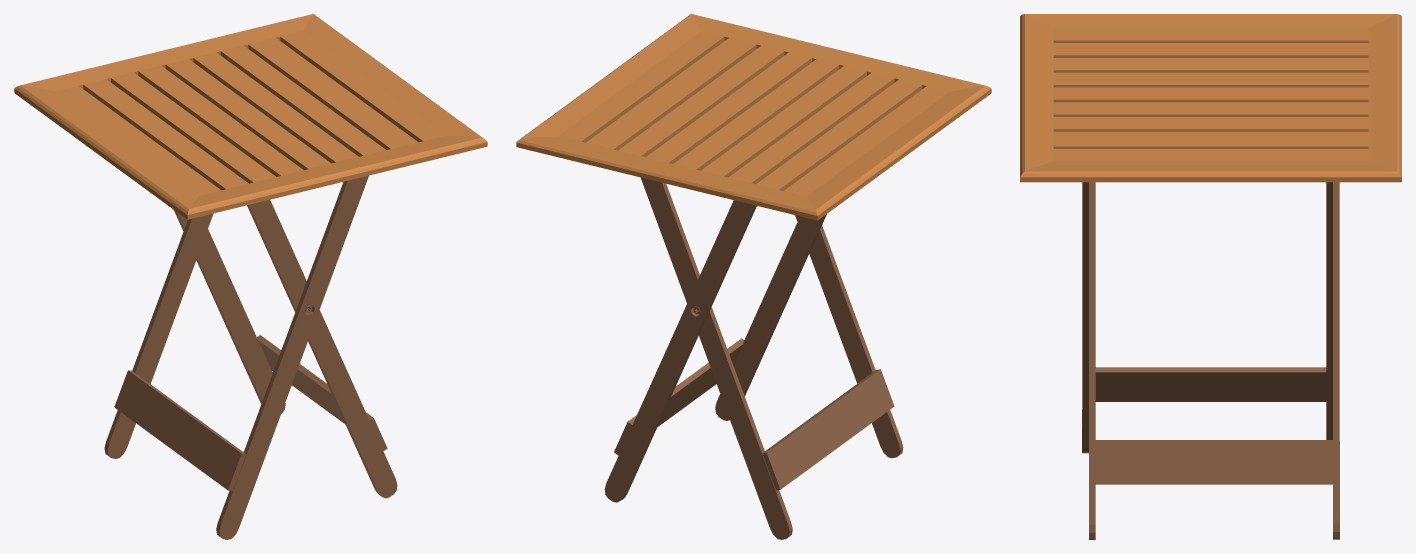
Rendered from bistro_table.fbx.
The picture shows the model from 3 angles, left to right: view 1: azimuth 30°, elevation 25°; view 2: azimuth 150°, elevation 25°; view 3: azimuth 270°, elevation 25°; orthographic projection. The views are drawn at different scales.
Visible parts, largest first — view 1: Desktop, Legs; view 2: Desktop, Legs; view 3: Desktop, Legs.
Boxes of the visible parts, x1=… form: Desktop: x1=14, y1=14, x2=487, y2=219; Legs: x1=104, y1=175, x2=397, y2=539; Desktop: x1=516, y1=14, x2=991, y2=220; Legs: x1=604, y1=177, x2=903, y2=539; Desktop: x1=1020, y1=14, x2=1401, y2=182; Legs: x1=1082, y1=182, x2=1339, y2=539.
Bounding box in the file's own units: 558 × 649 × 558.
